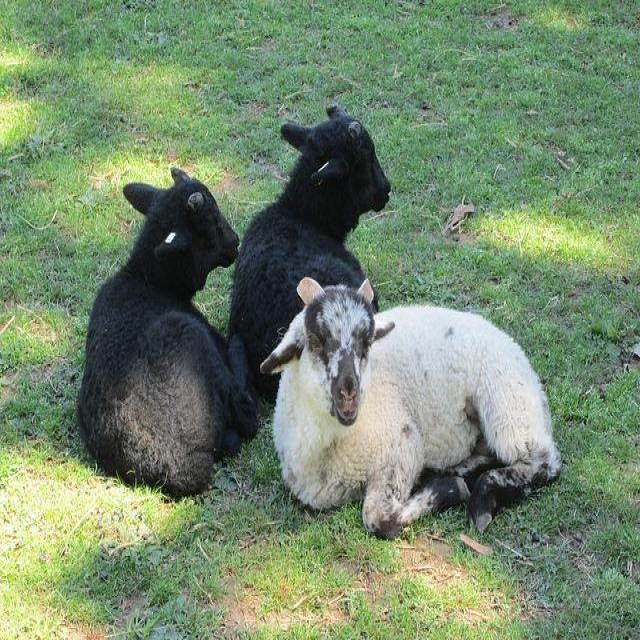Sheep: (259, 275, 565, 541), (74, 167, 261, 508), (228, 105, 392, 408)
